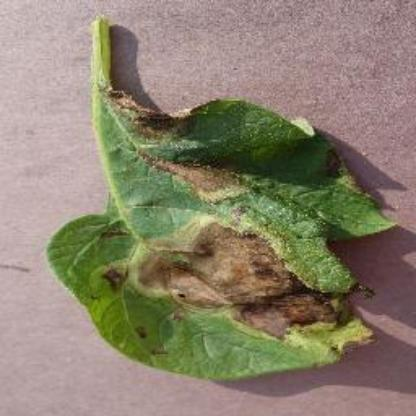Late-Blight: (46, 14, 398, 380)
